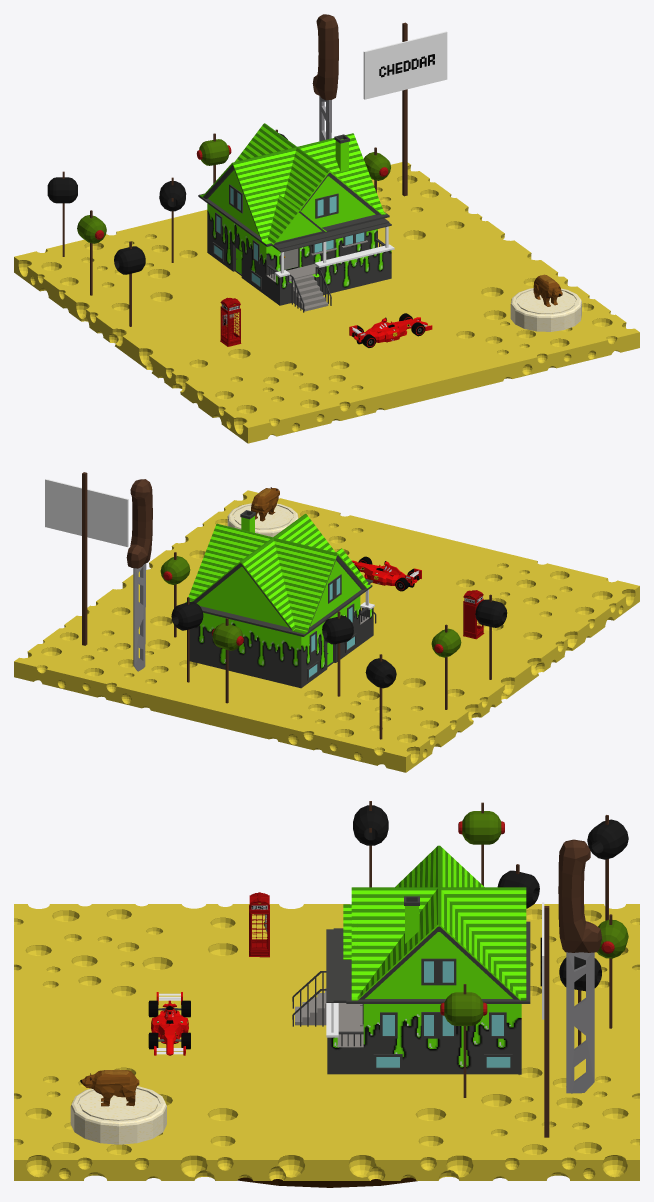
The picture shows the model from 3 angles, top to bottom: view 1: azimuth 30°, elevation 25°; view 2: azimuth 150°, elevation 25°; view 3: azimuth 270°, elevation 25°; orthographic projection. The views are drawn at different scales.
Visible parts, largest first — view 1: Cube.022, Cube.754, Cube.023, Cylinder.016, Cube.024, VEHICLES_FORMULA_1, OBJRANDOM_PHONEBOOTH, Sphere.017, Sphere.016, Sphere.020, Sphere.018, Sphere.022 (+2 smaller); view 2: Cube.022, Cube.754, Cube.023, Cube.024, Cylinder.016, VEHICLES_FORMULA_1, Sphere.020, Sphere.016, Sphere.022, Sphere.017, Sphere.021, Sphere.018 (+3 smaller); view 3: Cube.022, Cube.754, Cube.024, Cylinder.016, VEHICLES_FORMULA_1, Cube.023, Sphere.019, Sphere.016, ANIMAL_OSO, Sphere.018, Sphere.017, Sphere.022 (+4 smaller).
Part boxes in pixels (left/top/right/bottom): Cube.022: left=14, top=162, right=639, bottom=443; Cube.754: left=198, top=123, right=394, bottom=312; Cube.023: left=363, top=22, right=447, bottom=196; Cylinder.016: left=510, top=288, right=581, bottom=331; Cube.024: left=312, top=14, right=338, bottom=141; VEHICLES_FORMULA_1: left=349, top=313, right=432, bottom=347; OBJRANDOM_PHONEBOOTH: left=220, top=297, right=241, bottom=346; Sphere.017: left=114, top=241, right=145, bottom=326; Sphere.016: left=47, top=171, right=77, bottom=256; Sphere.020: left=159, top=177, right=186, bottom=262; Sphere.018: left=77, top=210, right=106, bottom=295; Sphere.022: left=196, top=133, right=231, bottom=183; Cube.022: left=14, top=490, right=639, bottom=772; Cube.754: left=185, top=510, right=376, bottom=688; Cube.023: left=45, top=472, right=128, bottom=645; Cube.024: left=126, top=479, right=152, bottom=671; Cylinder.016: left=227, top=503, right=298, bottom=537; VEHICLES_FORMULA_1: left=352, top=556, right=421, bottom=591; Sphere.020: left=322, top=611, right=353, bottom=696; Sphere.016: left=365, top=654, right=396, bottom=739; Sphere.022: left=212, top=618, right=243, bottom=703; Sphere.017: left=475, top=594, right=507, bottom=679; Sphere.021: left=171, top=597, right=203, bottom=682; Sphere.018: left=431, top=624, right=461, bottom=709; Cube.022: left=14, top=904, right=639, bottom=1180; Cube.754: left=292, top=845, right=530, bottom=1074; Cube.024: left=558, top=839, right=601, bottom=1093; Cylinder.016: left=70, top=1086, right=166, bottom=1144; VEHICLES_FORMULA_1: left=148, top=992, right=190, bottom=1055; Cube.023: left=540, top=902, right=549, bottom=1137; Sphere.019: left=440, top=984, right=487, bottom=1097; Sphere.016: left=587, top=815, right=628, bottom=920; ANIMAL_OSO: left=80, top=1069, right=139, bottom=1106; Sphere.018: left=458, top=802, right=504, bottom=885; Sphere.017: left=353, top=801, right=388, bottom=887; Sphere.022: left=597, top=914, right=628, bottom=1028.
Bounding box in the file's own units: 3917 × 2073 × 4000.
Materials: 45 (4 with a texture image).
